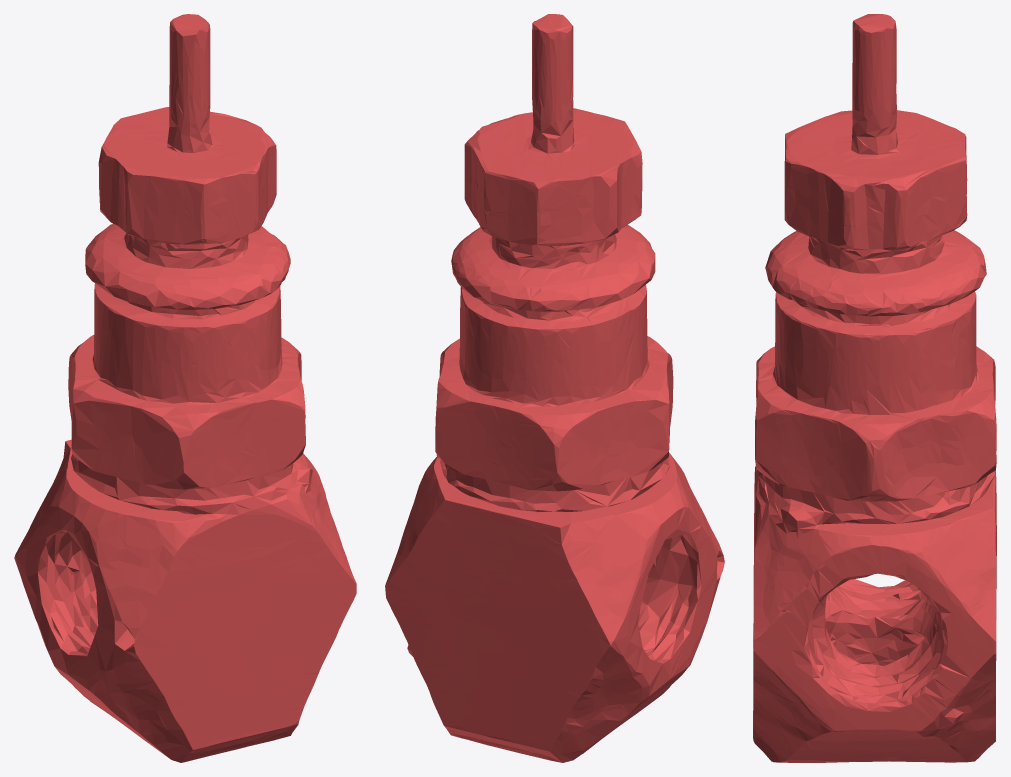
The model's file is valve-2.glb.
3 views of the same model, side by side, from view 1: azimuth 30°, elevation 25°; view 2: azimuth 150°, elevation 25°; view 3: azimuth 270°, elevation 25° (orthographic). The views are drawn at different scales.
Parts seen in each view (by area): view 1: part_02; view 2: part_02; view 3: part_02.
Boxes of the visible parts, box(x1,y1,x2,y2) form: part_02: box(14, 14, 356, 762); part_02: box(385, 14, 724, 762); part_02: box(753, 14, 996, 762).
Size of the model in its own units: 0.3343 by 0.9573 by 0.2954.
